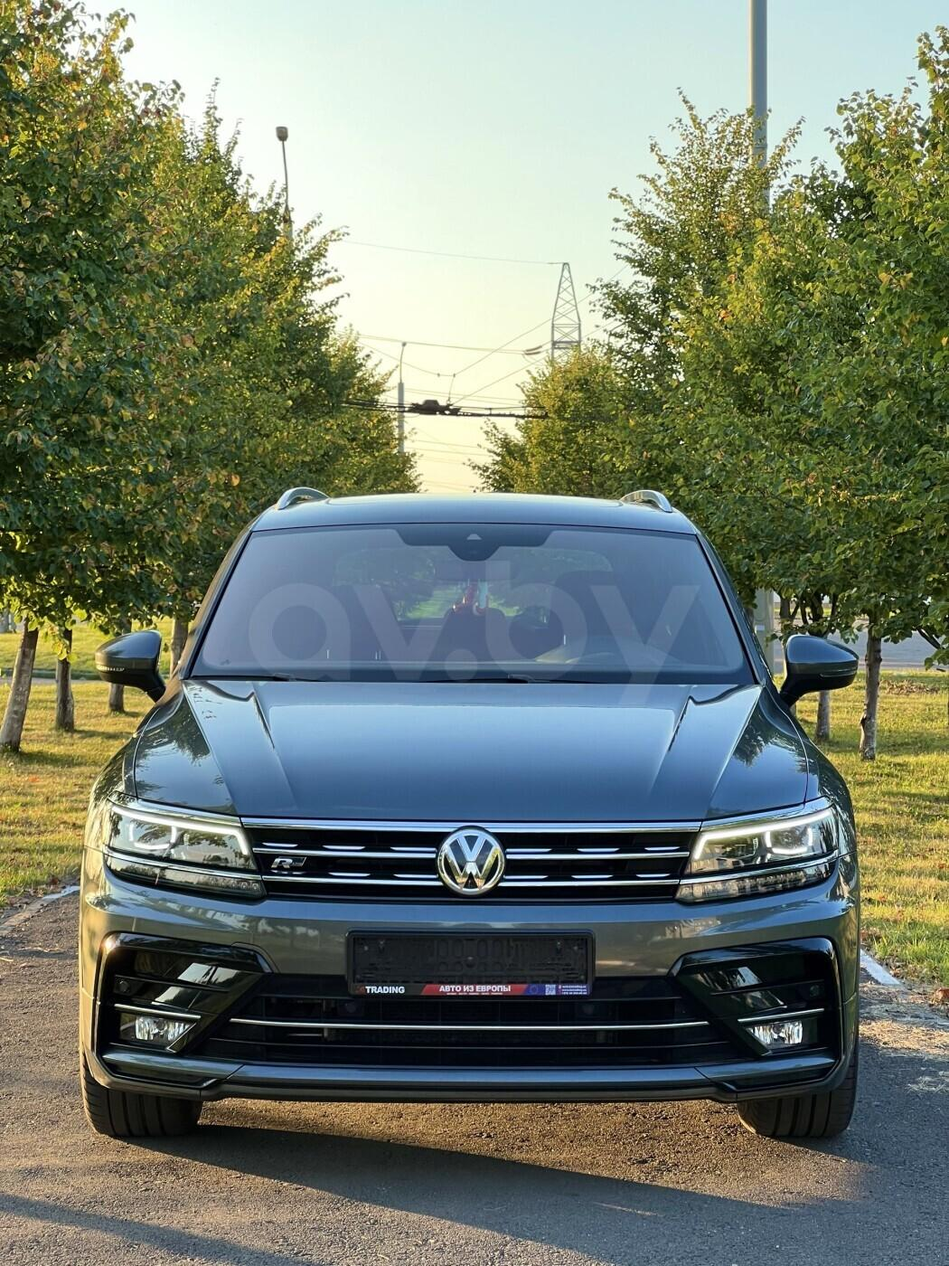Tiguan_2020-2024: (78, 488, 869, 1150)
